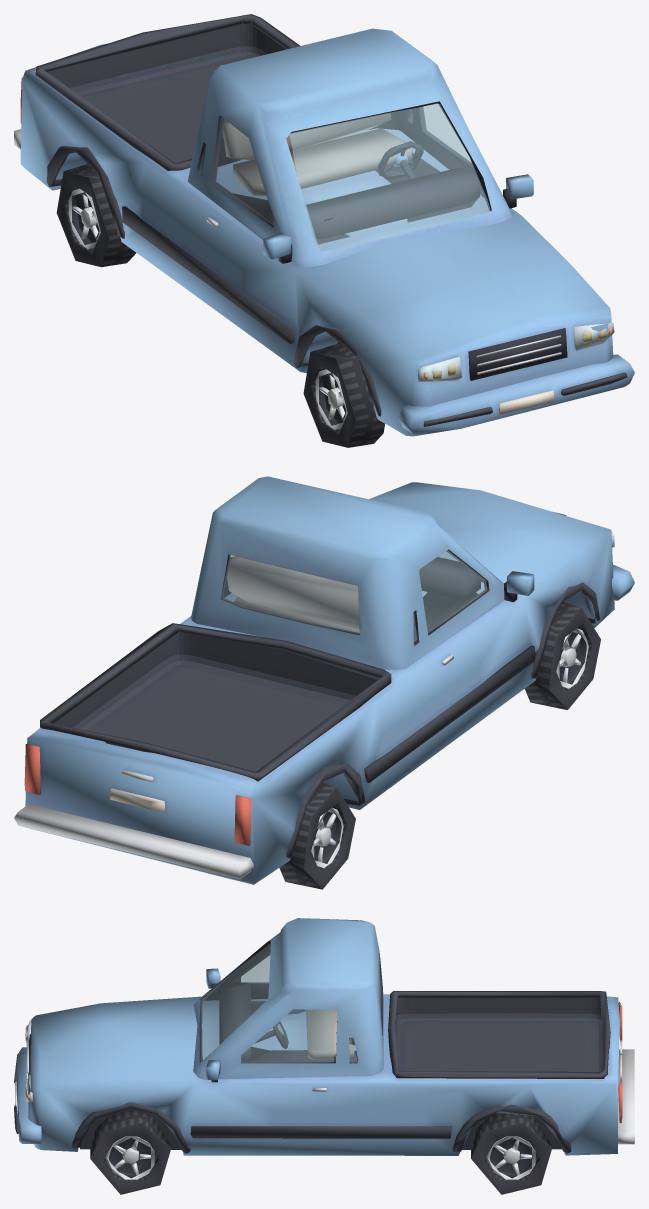
Rendered from g3-1990s-pickup-truck-lite.glb.
3 views of the same model, one above another, from view 1: azimuth 30°, elevation 25°; view 2: azimuth 150°, elevation 25°; view 3: azimuth 270°, elevation 25° (orthographic). The views are drawn at different scales.
Parts seen in each view (by area): view 1: 1990s-pickup-truck_body, 1990s-pickup-truck_windows, 1990s-pickup-truck_wheel_fr, 1990s-pickup-truck_wheel_rr; view 2: 1990s-pickup-truck_body, 1990s-pickup-truck_windows, 1990s-pickup-truck_wheel_fr, 1990s-pickup-truck_wheel_rr; view 3: 1990s-pickup-truck_body, 1990s-pickup-truck_windows, 1990s-pickup-truck_wheel_fl, 1990s-pickup-truck_wheel_rl.
Boxes of the visible parts, box(x1,y1,x2,y2) form: 1990s-pickup-truck_body: box(14, 14, 634, 436); 1990s-pickup-truck_windows: box(200, 103, 490, 251); 1990s-pickup-truck_wheel_fr: box(303, 343, 384, 447); 1990s-pickup-truck_wheel_rr: box(56, 164, 135, 267); 1990s-pickup-truck_body: box(14, 476, 634, 884); 1990s-pickup-truck_windows: box(222, 550, 486, 641); 1990s-pickup-truck_wheel_fr: box(525, 602, 600, 709); 1990s-pickup-truck_wheel_rr: box(279, 782, 355, 889); 1990s-pickup-truck_body: box(14, 918, 634, 1155); 1990s-pickup-truck_windows: box(201, 943, 380, 1062); 1990s-pickup-truck_wheel_fl: box(90, 1110, 172, 1194); 1990s-pickup-truck_wheel_rl: box(471, 1113, 552, 1194).
Size of the model in its own units: 2.01 by 1.87 by 5.28.
6 materials, 2 textured.
